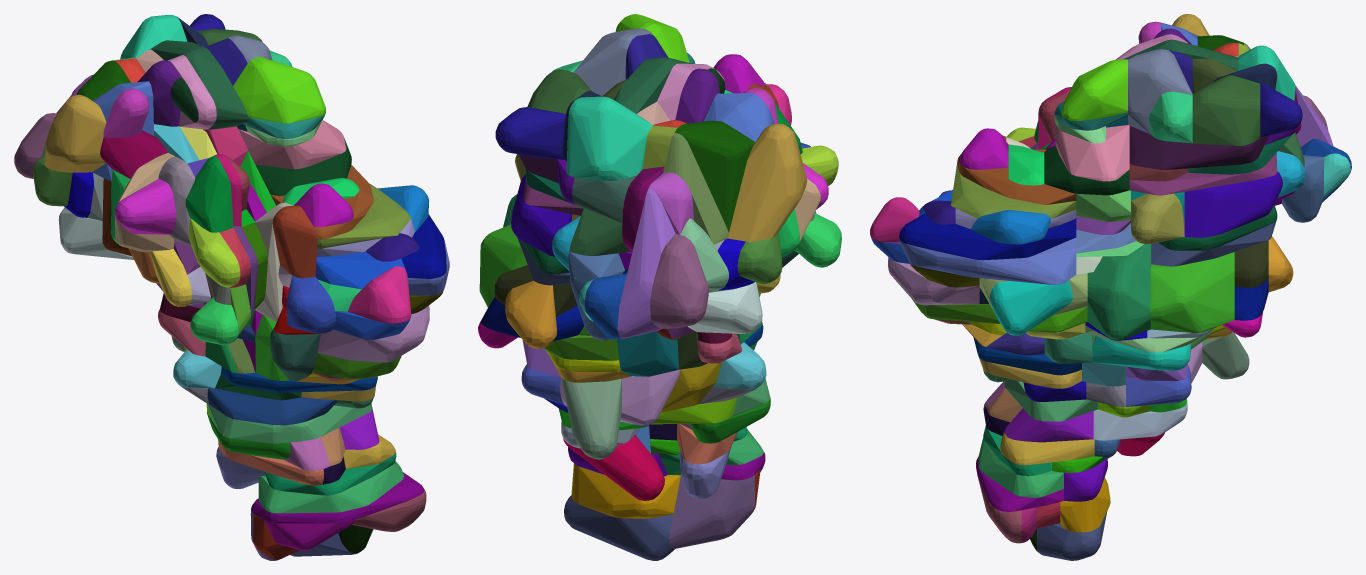
Rendered from spike_molecular_optimized.obj.
The picture shows the model from 3 angles, left to right: view 1: azimuth 30°, elevation 25°; view 2: azimuth 150°, elevation 25°; view 3: azimuth 270°, elevation 25°; orthographic projection. The views are drawn at different scales.
Parts seen in each view (by area): view 1: geometry_17, geometry_37, geometry_10, geometry_3, geometry_44, geometry_155, geometry_73, geometry_24, geometry_33, geometry_31, geometry_91, geometry_70 (+75 smaller); view 2: geometry_37, geometry_64, geometry_40, geometry_41, geometry_1, geometry_176, geometry_0, geometry_16, geometry_59, geometry_20, geometry_55, geometry_75 (+57 smaller); view 3: geometry_74, geometry_129, geometry_19, geometry_69, geometry_71, geometry_68, geometry_26, geometry_134, geometry_62, geometry_17, geometry_24, geometry_123 (+63 smaller).
Boxes of the visible parts, x1,y1,x2,y2 form: geometry_17: (233,57,325,123); geometry_37: (44,94,106,172); geometry_10: (258,461,404,513); geometry_3: (207,403,371,443); geometry_44: (207,388,337,425); geometry_155: (151,40,247,129); geometry_73: (317,305,429,362); geometry_24: (238,120,346,169); geometry_33: (185,155,233,232); geometry_31: (272,205,317,278); geometry_91: (114,179,176,234); geometry_70: (348,266,411,323); geometry_37: (727,123,807,241); geometry_64: (566,96,653,180); geometry_40: (617,188,675,338); geometry_41: (650,234,708,328); geometry_1: (669,475,754,548); geometry_176: (674,120,755,232); geometry_0: (561,377,621,459); geometry_16: (564,495,674,560); geometry_59: (571,463,680,518); geometry_20: (495,107,565,159); geometry_55: (563,435,664,500); geometry_75: (505,280,556,348); geometry_74: (1150,252,1234,332); geometry_129: (1087,244,1151,339); geometry_19: (1192,75,1260,145); geometry_69: (899,237,1076,284); geometry_71: (1184,171,1282,237); geometry_68: (899,213,1076,260); geometry_26: (1129,126,1268,169); geometry_134: (989,280,1072,335); geometry_62: (1128,49,1192,133); geometry_17: (1061,59,1127,120); geometry_24: (1055,122,1129,181); geometry_123: (1131,193,1184,244).
Bounding box in the file's own units: 38.83 × 60.8 × 55.28.
